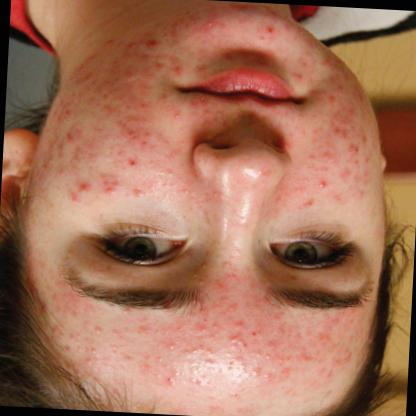Acne: (308, 173, 334, 193)
